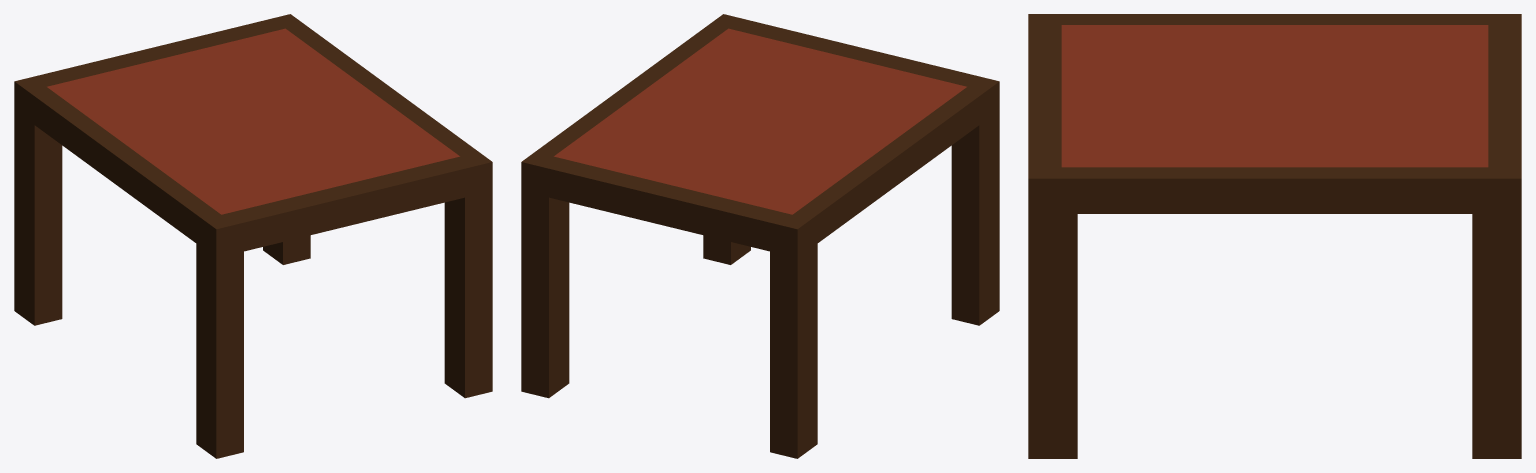
The model's file is table.fbx.
3 renders of one model, left to right at view 1: azimuth 30°, elevation 25°; view 2: azimuth 150°, elevation 25°; view 3: azimuth 270°, elevation 25°, orthographic. The views are drawn at different scales.
Visible parts, largest first — view 1: Cube; view 2: Cube; view 3: Cube.
Part boxes in pixels (x1,y1,x2,y2): Cube: (14, 14, 492, 458); Cube: (521, 14, 999, 458); Cube: (1028, 14, 1521, 458).
Bounding box in the file's own units: 400 × 318 × 507.
